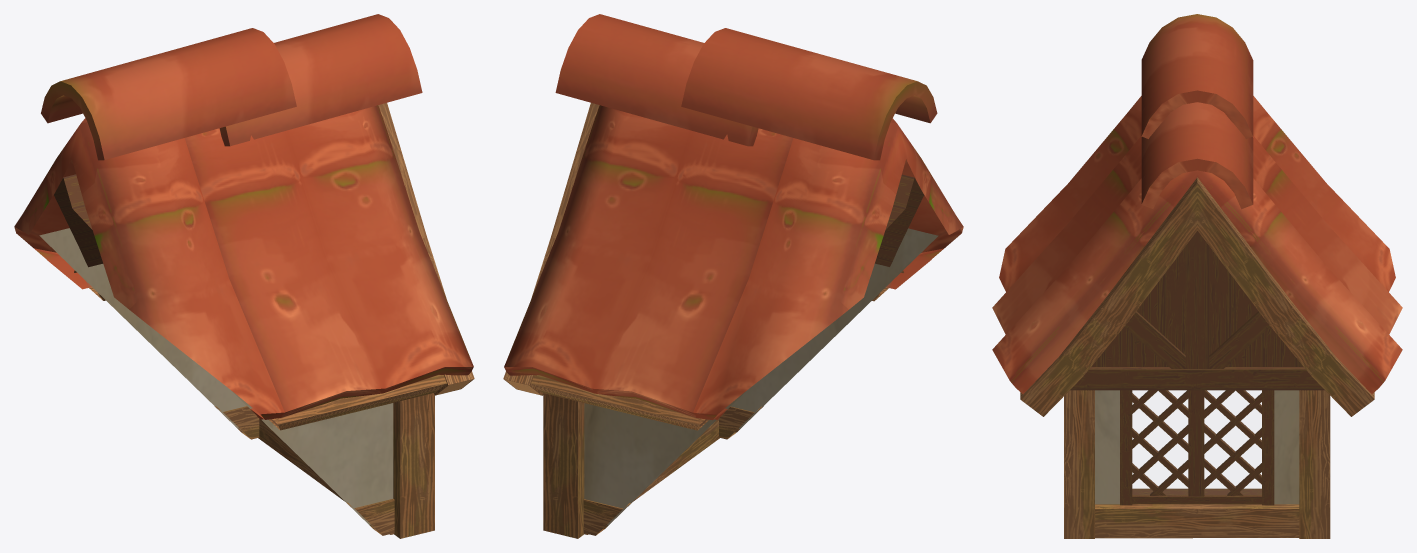
The model's file is Roof_Dormer_RoundTile.gltf.
3 views of the same model, side by side, from view 1: azimuth 30°, elevation 25°; view 2: azimuth 150°, elevation 25°; view 3: azimuth 270°, elevation 25° (orthographic). The views are drawn at different scales.
Parts seen in each view (by area): view 1: Roof_Dormer_RoundTile; view 2: Roof_Dormer_RoundTile; view 3: Roof_Dormer_RoundTile.
Part boxes in pixels (x1=…): Roof_Dormer_RoundTile: x1=14, y1=14, x2=474, y2=538; Roof_Dormer_RoundTile: x1=503, y1=14, x2=963, y2=538; Roof_Dormer_RoundTile: x1=992, y1=14, x2=1402, y2=538.
Size of the model in its own units: 1.97 by 2.67 by 2.44.
4 materials, 3 textured.
